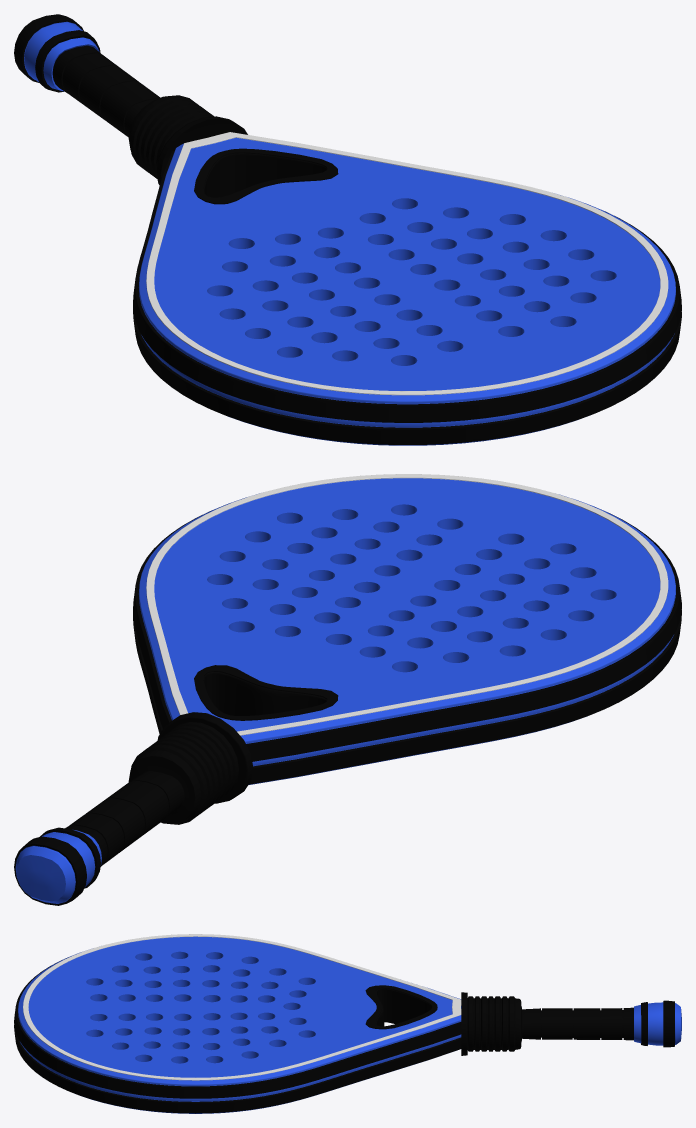
File: fbxPadel.fbx
The picture shows the model from 3 angles, top to bottom: view 1: azimuth 30°, elevation 25°; view 2: azimuth 150°, elevation 25°; view 3: azimuth 270°, elevation 25°; orthographic projection. The views are drawn at different scales.
Visible parts, largest first — view 1: padel:padel, padel:manec; view 2: padel:padel, padel:manec; view 3: padel:padel, padel:manec.
Part boxes in pixels (x1,y1,x2,y2): padel:padel: (133,132,681,445); padel:manec: (14,14,247,185); padel:padel: (133,474,681,784); padel:manec: (14,712,253,905); padel:padel: (14,934,461,1113); padel:manec: (461,992,681,1055).
Size of the model in its own units: 11.21 by 1.96 by 20.6.
3 materials, 1 textured.
